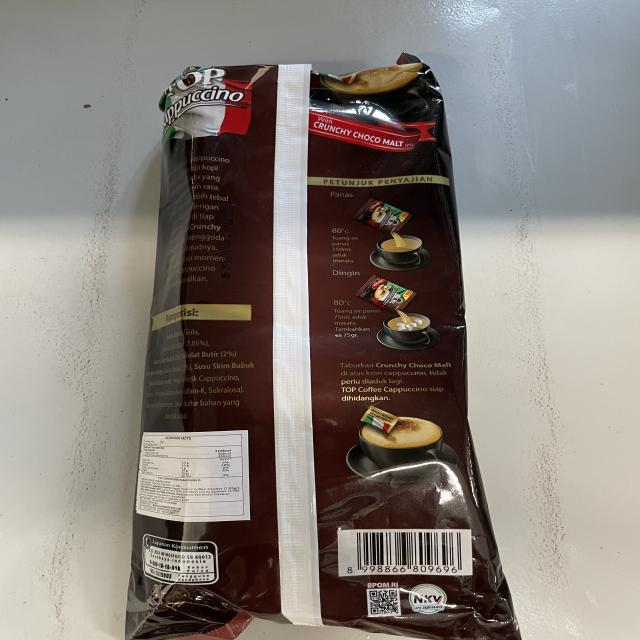object_name: (153, 67, 480, 635)
